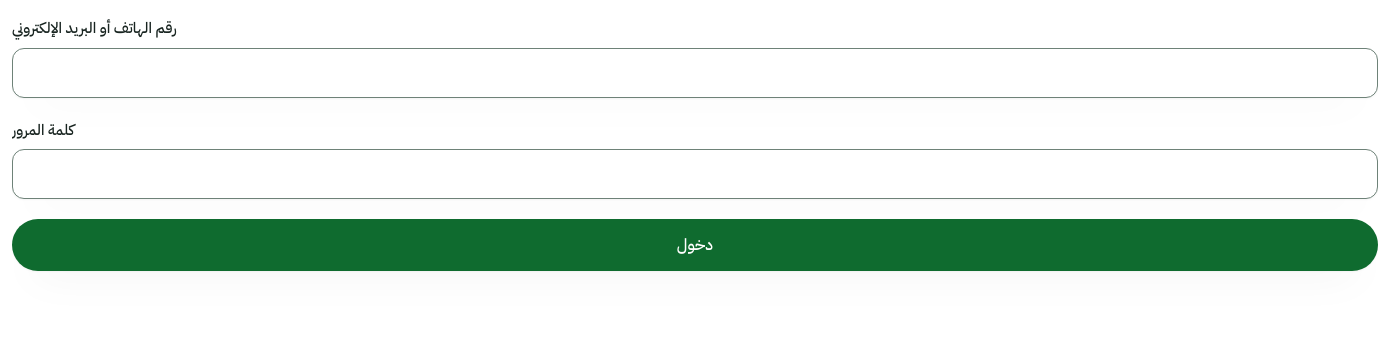
it: LoginForm › sends phone and password to the Server Action and shows the error it returns
This screenshot has width=1390, height=361.
Type "0944123456" into the field labelled "رقم الهاتف أو البريد الإلكتروني" at (695, 72), box x1=12 y1=48 x2=1378 y2=98
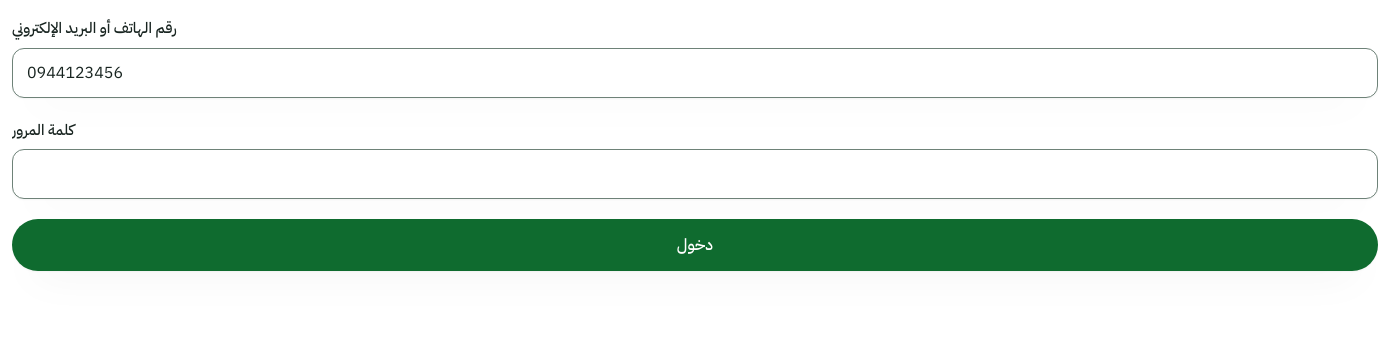
Type "wrong-pass" into the password field labelled "كلمة المرور" at (695, 174), box x1=12 y1=149 x2=1378 y2=199
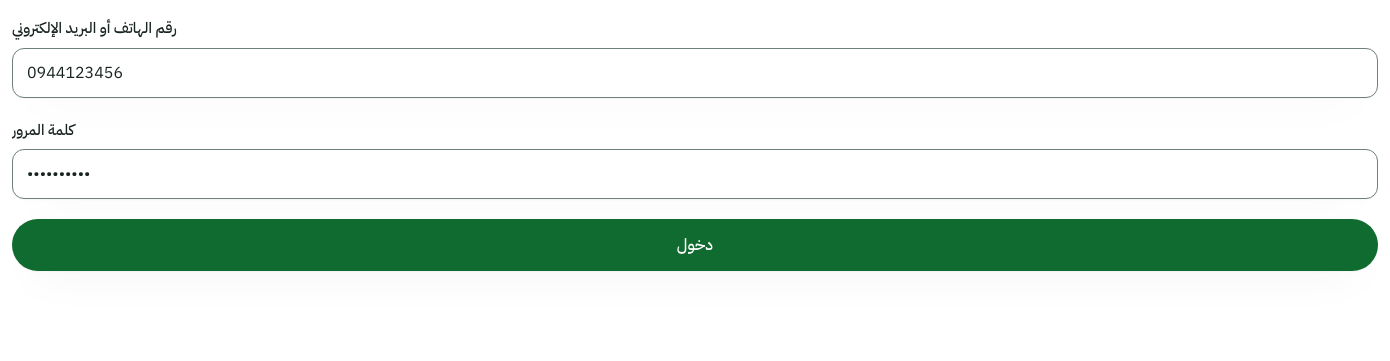
Click the button "دخول" at (695, 245), box x1=12 y1=219 x2=1378 y2=271
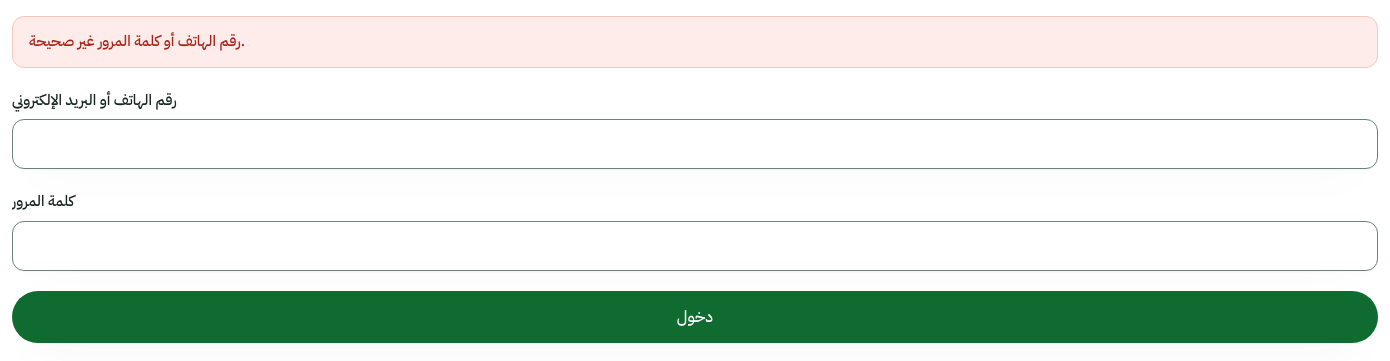
Expected: the message reads "رقم الهاتف أو كلمة المرور غير صحيحة.", x1=29 y1=30 x2=245 y2=52
